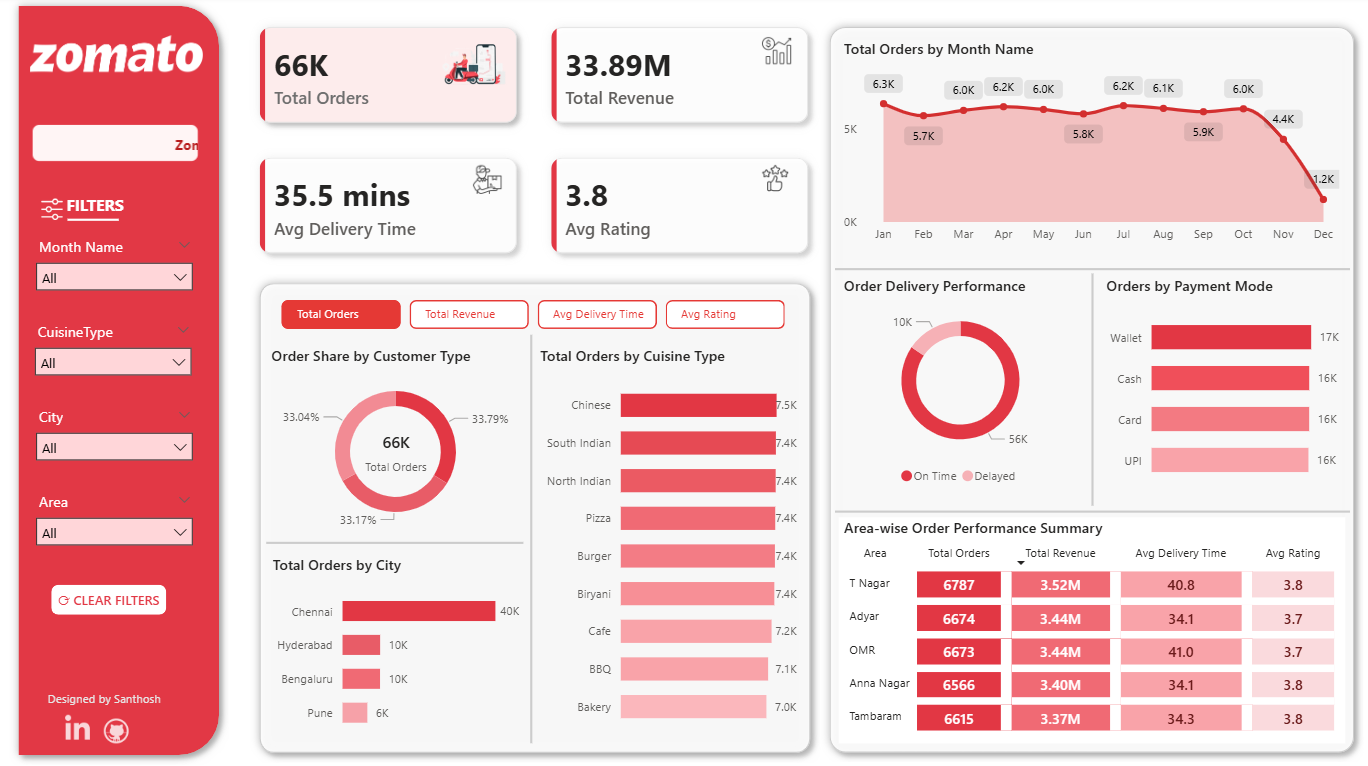

This screenshot's page, from the dashboard's own definition file:
{"tool":"powerbi","page":{"name":"Dashboard","canvas":[1280,720],"ordinal":0},"visuals":[{"type":"cardVisual","fields":{"Data":["measures_table.Total Orders","measures_table.Total Revenue","measures_table.Avg Delivery Time","measures_table.Avg Rating"]},"box":[212.8,0,569.8,269.8],"z":0},{"type":"shape","box":[8.1,0,204.7,715.1],"z":1000},{"type":"image","box":[24.4,22.1,160.5,67.4],"z":2000},{"type":"shape","box":[232.6,258.1,530.2,455],"z":3000},{"type":"shape","box":[762.8,19.8,505.8,693],"z":4000},{"type":"textbox","box":[39.5,638.4,143,46.5],"z":5000},{"type":"image","box":[60.5,668.6,23.3,23.3],"z":6000},{"type":"image","box":[96.5,672.1,23.3,23.3],"z":7000},{"type":"image","box":[408.1,37.2,67.4,51.2],"z":8000},{"type":"image","box":[700,37.2,45,27],"z":9000},{"type":"image","box":[698.8,155.8,45,27],"z":10000},{"type":"image","box":[430.2,157,45.3,27.9],"z":11000},{"type":"advancedSlicerVisual","fields":{"Values":["metrics.metrics"]},"box":[257,277.9,480.2,37.2],"z":12000},{"type":"donutChart","title":"Order Share by Customer Type","fields":{"Y":["measures_table.Total Orders"],"Category":["swiggy.CustomerType"]},"box":[247.7,325.6,240.7,179.1],"z":13000},{"type":"clusteredBarChart","fields":{"Y":["measures_table.Total Orders"],"Category":["swiggy.City"]},"box":[248.8,519.8,239.5,175.6],"z":14000},{"type":"shape","box":[447.7,315.1,93,380.2],"z":15000},{"type":"barChart","title":"Total Orders by Cuisine Type","fields":{"Y":["measures_table.Total Orders"],"Category":["swiggy.CuisineType"]},"box":[497.7,325.6,248.8,366.3],"z":16000},{"type":"shape","box":[247.7,493,239.5,31.4],"z":17000},{"type":"lineChart","fields":{"Y":["measures_table.Total Orders"],"Category":["swiggy.Month Name"]},"box":[780.2,39.5,470.9,198.8],"z":18000},{"type":"shape","box":[776.7,238.4,479.1,31.4],"z":19000},{"type":"donutChart","title":"Order Delivery Performance","fields":{"Y":["measures_table.Total Orders"],"Category":["swiggy.Delivery_Status"]},"box":[780.2,260.5,226.7,203.5],"z":20000},{"type":"shape","box":[969.8,258.1,93,216.3],"z":21000},{"type":"shape","box":[776.7,464,479.1,31.4],"z":22000},{"type":"clusteredBarChart","title":"Orders by Payment Mode","fields":{"Category":["swiggy.PaymentMode"],"Y":["measures_table.Total Orders"]},"box":[1024.4,260.5,226.7,204.7],"z":23000},{"type":"pivotTable","title":"Area-wise Order Performance Summary","fields":{"Values":["measures_table.Total Orders","measures_table.Total Revenue","measures_table.Avg Delivery Time","measures_table.Avg Rating"],"Rows":["swiggy.Area"]},"box":[780.2,484.9,470.9,210.5],"z":24000},{"type":"actionButton","box":[47.7,547.7,107,28],"z":25000},{"type":"slicer","title":"Quarter","fields":{"Values":["swiggy.CustomerType"]},"box":[23,297.7,166.3,79.1],"z":26000},{"type":"slicer","title":"Quarter","fields":{"Values":["swiggy.Month Name"]},"box":[23,218.6,166.3,79.1],"z":27000},{"type":"slicer","title":"City","fields":{"Values":["swiggy.City"]},"box":[23,376.7,166.3,79.1],"z":28000},{"type":"slicer","title":"Area","fields":{"Values":["swiggy.Area"]},"box":[23,455.8,166.3,79.1],"z":29000},{"type":"image","box":[38.4,188.4,19.8,19.8],"z":30000},{"type":"textbox","box":[57,179.1,88.4,41.9],"z":31000},{"type":"shape","box":[62.8,202.3,47.7,11.6],"z":32000},{"type":"htmlContent443BE3AD55E043BF878BED274D3A6855","fields":{"content":["measures_table.Insights_Ticker"]},"box":[25.6,115.1,164,55.8],"z":33000},{"type":"card","fields":{"Values":["measures_table.Total Orders"]},"box":[318.6,391.9,100,64],"z":34000}]}

Visuals, with their boxes in screenshot pixels (x1, y1, x2, y2), scaled from the page's 1280x720 canvas onto the 1368x766 screenshot:
cardVisual - measures_table.Total Orders x measures_table.Total Revenue: box=[227, 0, 836, 287]
shape: box=[9, 0, 227, 761]
image: box=[26, 24, 198, 95]
shape: box=[249, 275, 815, 759]
shape: box=[815, 21, 1356, 758]
textbox: box=[42, 679, 195, 729]
image: box=[65, 711, 90, 736]
image: box=[103, 715, 128, 740]
image: box=[436, 40, 508, 94]
image: box=[748, 40, 796, 68]
image: box=[747, 166, 795, 194]
image: box=[460, 167, 508, 197]
advancedSlicerVisual - metrics.metrics: box=[275, 296, 788, 335]
"Order Share by Customer Type" donutChart: box=[265, 346, 522, 537]
clusteredBarChart - measures_table.Total Orders x swiggy.City: box=[266, 553, 522, 740]
shape: box=[478, 335, 578, 740]
"Total Orders by Cuisine Type" barChart: box=[532, 346, 798, 736]
shape: box=[265, 524, 521, 558]
lineChart - measures_table.Total Orders x swiggy.Month Name: box=[834, 42, 1337, 254]
shape: box=[830, 254, 1342, 287]
"Order Delivery Performance" donutChart: box=[834, 277, 1076, 494]
shape: box=[1036, 275, 1136, 505]
shape: box=[830, 494, 1342, 527]
"Orders by Payment Mode" clusteredBarChart: box=[1095, 277, 1337, 495]
"Area-wise Order Performance Summary" pivotTable: box=[834, 516, 1337, 740]
actionButton: box=[51, 583, 165, 612]
"Quarter" slicer: box=[25, 317, 202, 401]
"Quarter" slicer: box=[25, 233, 202, 317]
"City" slicer: box=[25, 401, 202, 485]
"Area" slicer: box=[25, 485, 202, 569]
image: box=[41, 200, 62, 222]
textbox: box=[61, 191, 155, 235]
shape: box=[67, 215, 118, 228]
htmlContent443BE3AD55E043BF878BED274D3A6855 - measures_table.Insights_Ticker: box=[27, 122, 203, 182]
card - measures_table.Total Orders: box=[341, 417, 447, 485]
